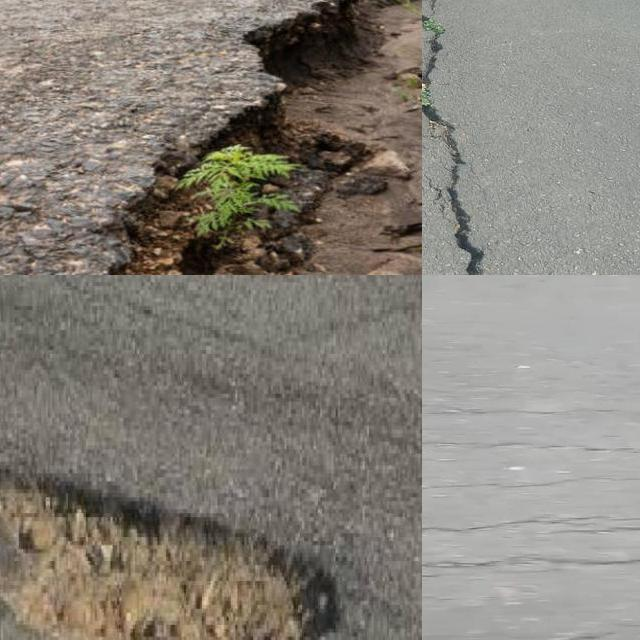Lubang: (0, 476, 335, 640)
Melintang: (422, 512, 640, 549)
Memanjang: (422, 0, 488, 275)
Pinggir: (96, 0, 419, 275)
